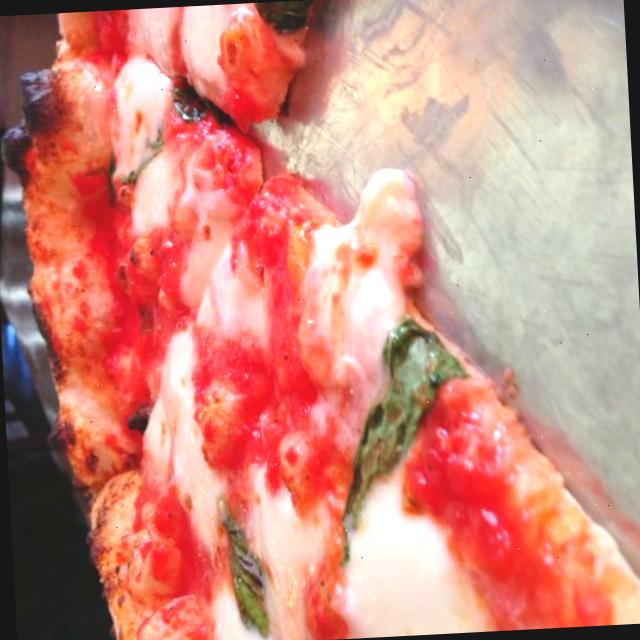basil: (324, 314, 475, 568), (216, 498, 268, 632), (116, 120, 174, 183)
cheese: (298, 151, 422, 352), (329, 490, 474, 640), (140, 331, 220, 517), (104, 51, 188, 225), (239, 475, 326, 640), (130, 5, 236, 76), (194, 248, 269, 346)
pizza: (24, 40, 640, 640), (54, 0, 331, 128)
